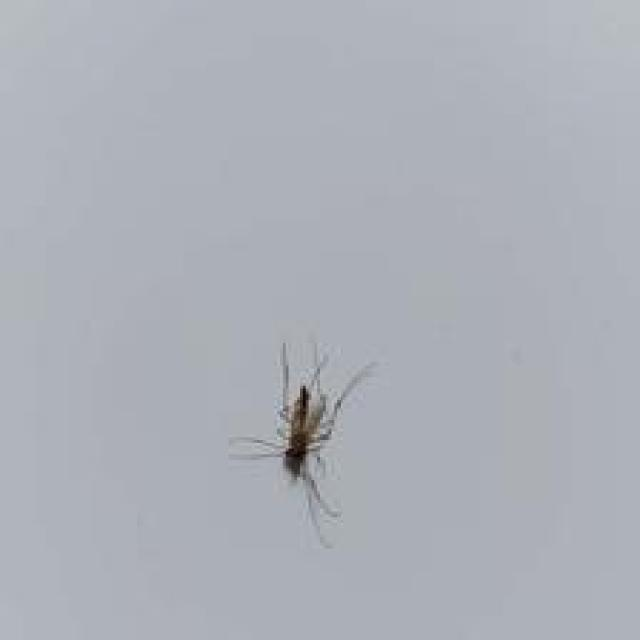Culex: (227, 337, 379, 549)
